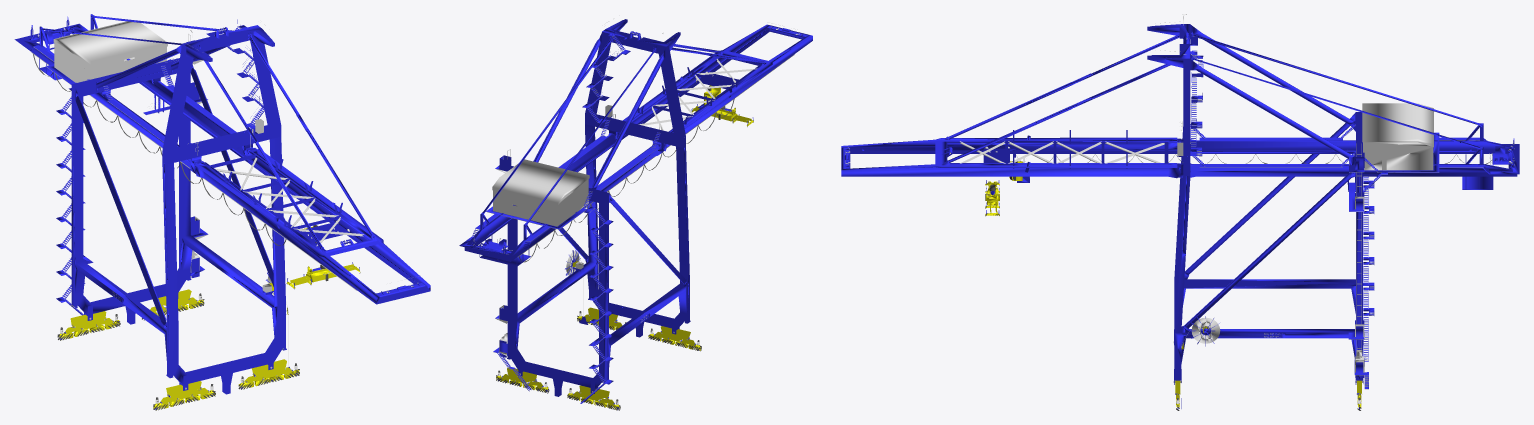
File: sts_crane.glb
3 renders of one model, left to right at view 1: azimuth 30°, elevation 25°; view 2: azimuth 150°, elevation 25°; view 3: azimuth 270°, elevation 25°, orthographic. The views are drawn at different scales.
Parts seen in each view (by area): view 1: Tower; view 2: Tower; view 3: Tower.
Boxes of the visible parts, box(x1,y1,x2,y2) form: Tower: box(14, 14, 430, 410); Tower: box(459, 19, 812, 410); Tower: box(841, 14, 1519, 410).
Bounding box in the file's own units: 26.95 × 64.66 × 114.
